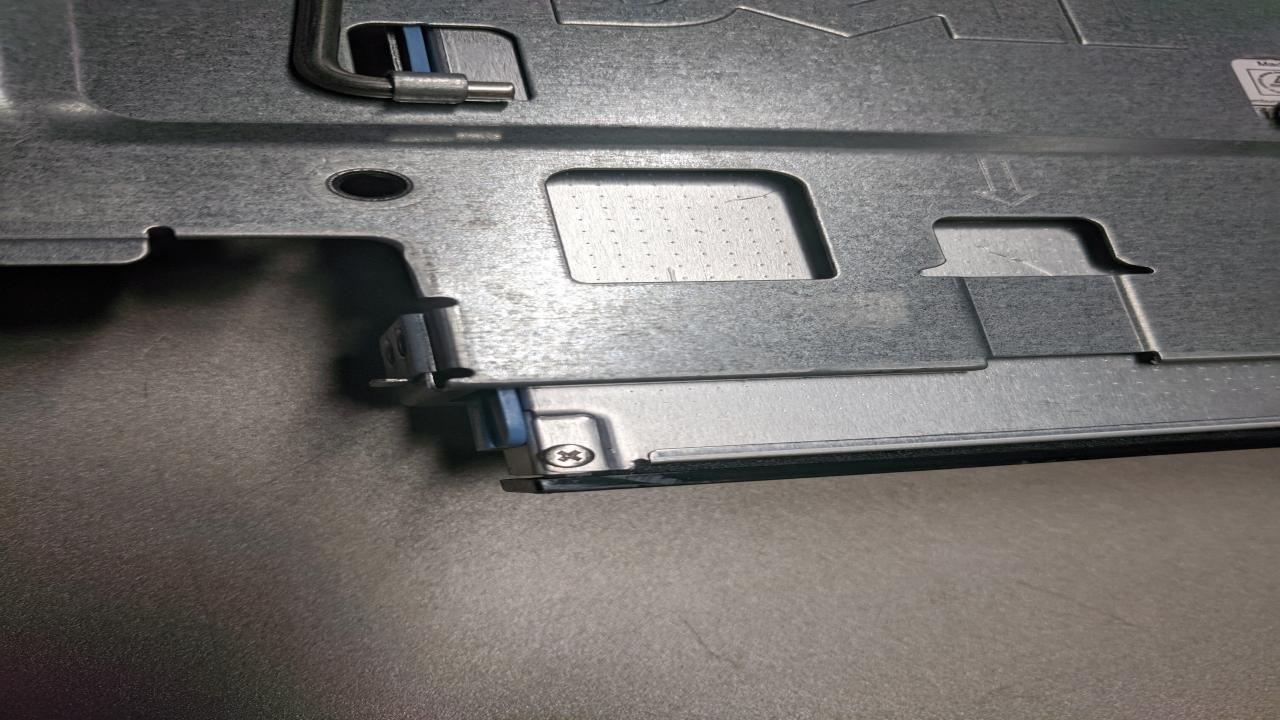CRS: (538, 441, 601, 468)
